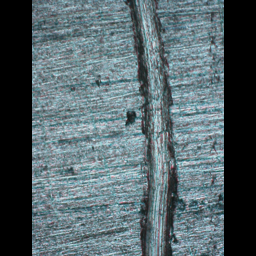d: (122, 0, 179, 255)
